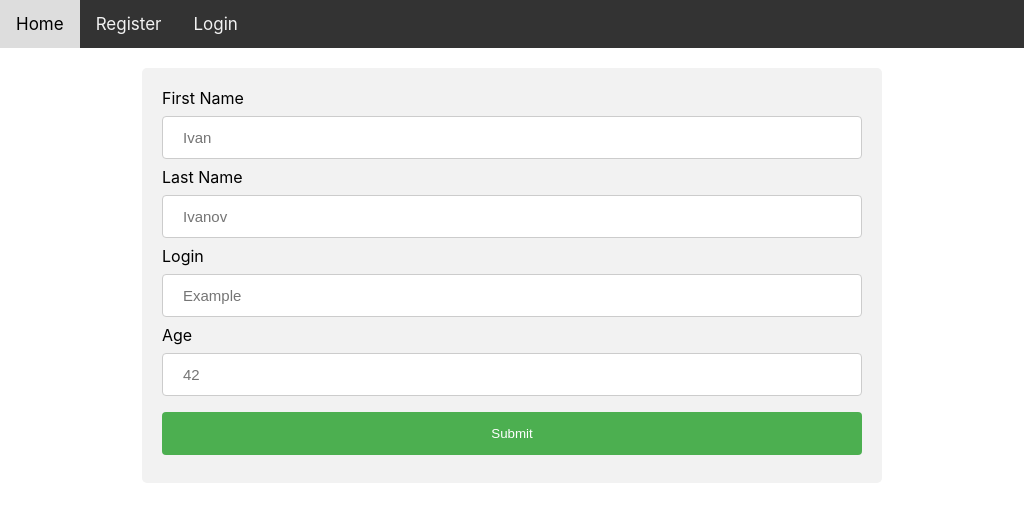
Test: E2E tests with cypress › Wrong name in register page
This screenshot has width=1024, height=523.
Type "1234" into the field with id "firstName" at [512, 138], box x1=162 y1=116 x2=862 y2=159
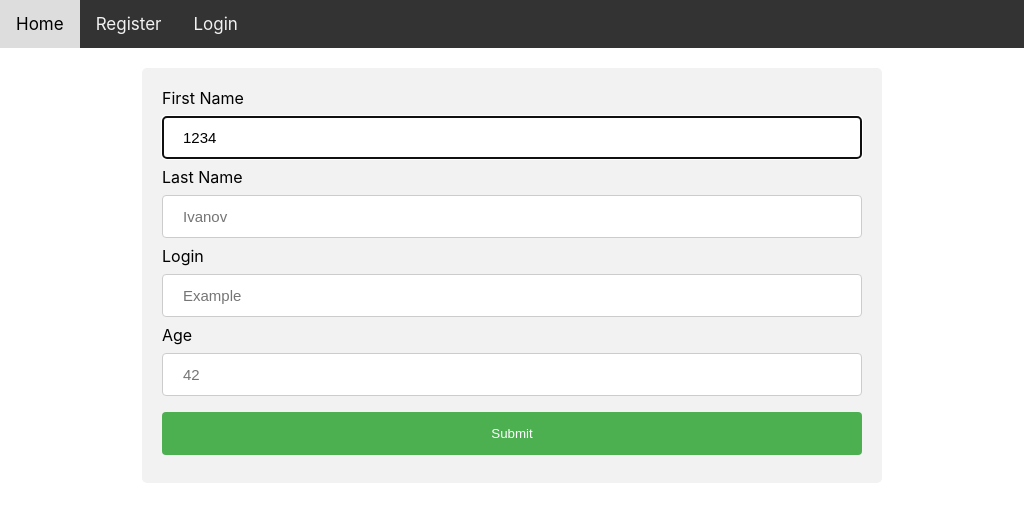
Type "BBBB" into the field with id "lastName" at [512, 217], box x1=162 y1=195 x2=862 y2=238
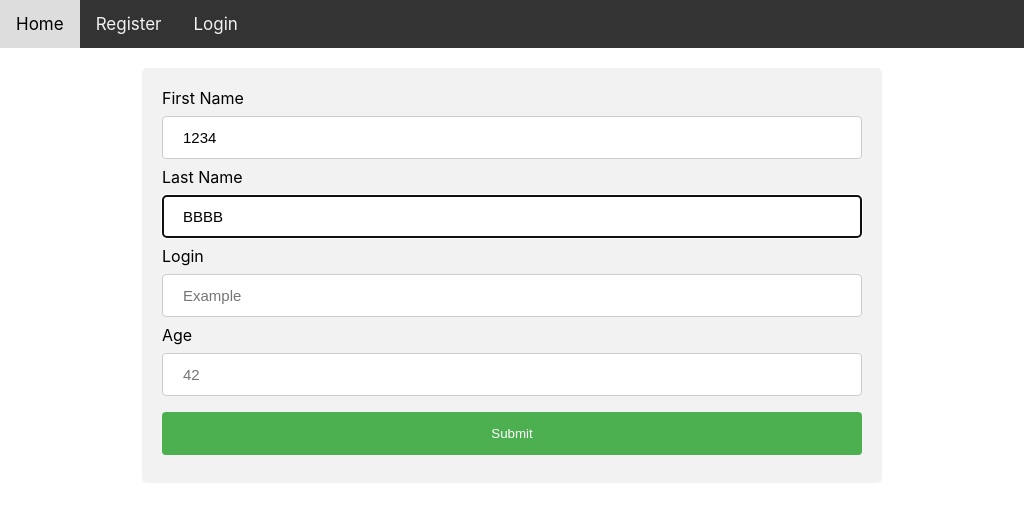
Type "a1234a" into the field with id "login" at [512, 296], box x1=162 y1=274 x2=862 y2=317
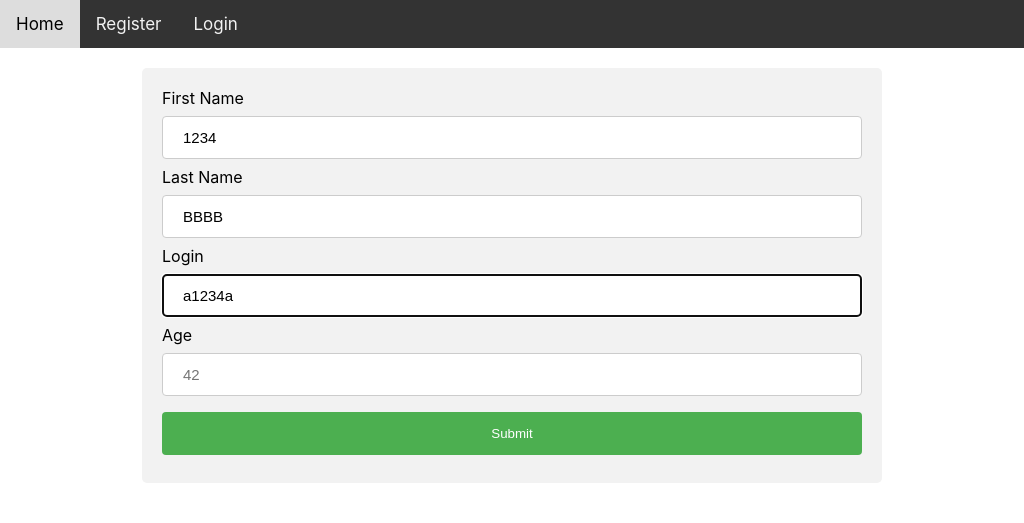
Type "11" into the number field with id "age" at [512, 375], box x1=162 y1=353 x2=862 y2=396
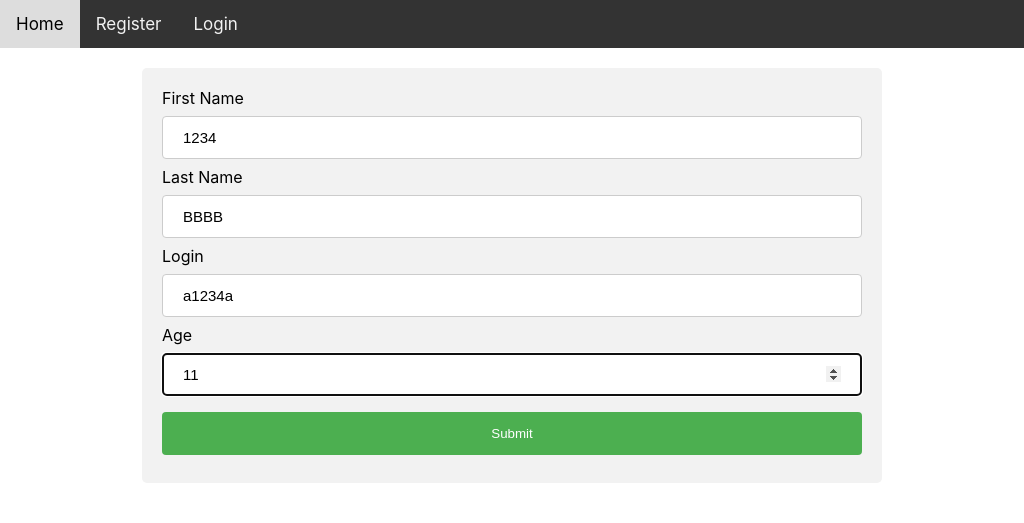
Click the button with id "register-submit" at [512, 434], box x1=162 y1=412 x2=862 y2=455
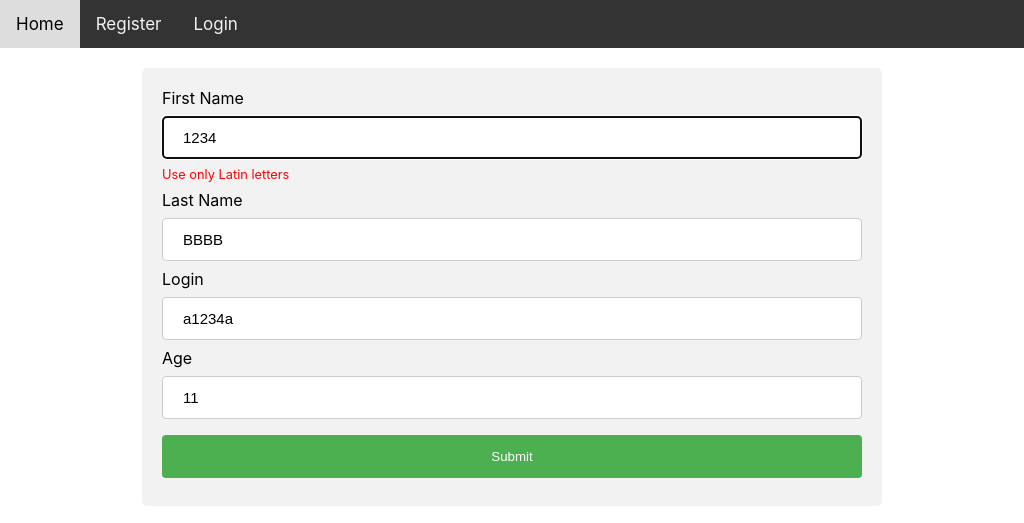
Check: the element with class "error" is not empty
Check: the message with class "error" reads "Use only Latin letters", box x1=162 y1=167 x2=289 y2=182
